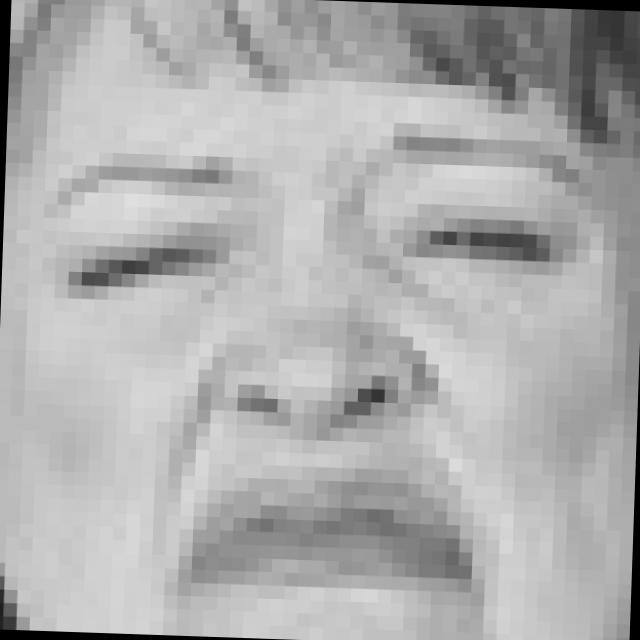disgust: (38, 119, 590, 632)
